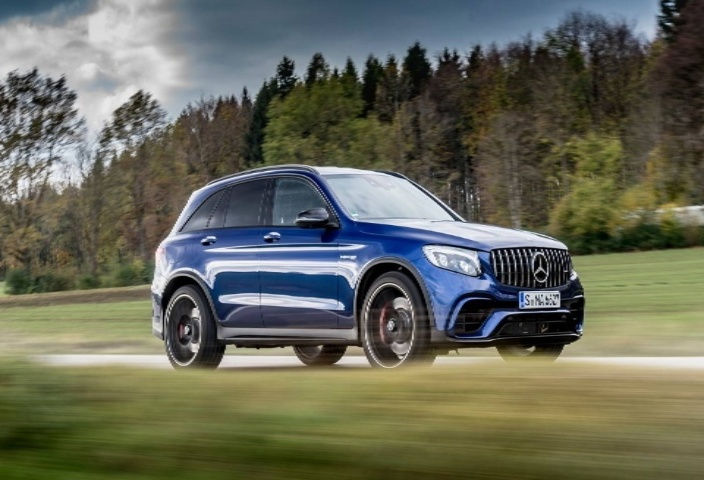camper: (135, 164, 593, 391)
